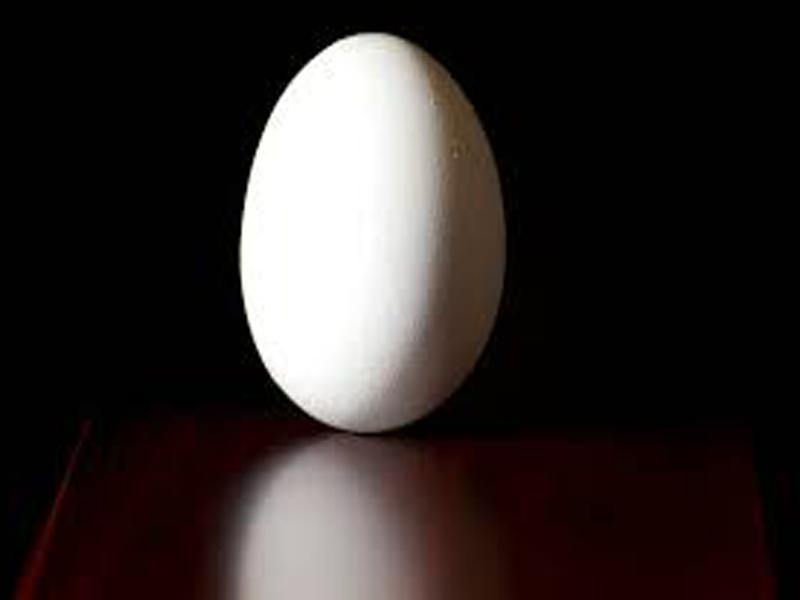Eggs: (240, 33, 502, 433)
